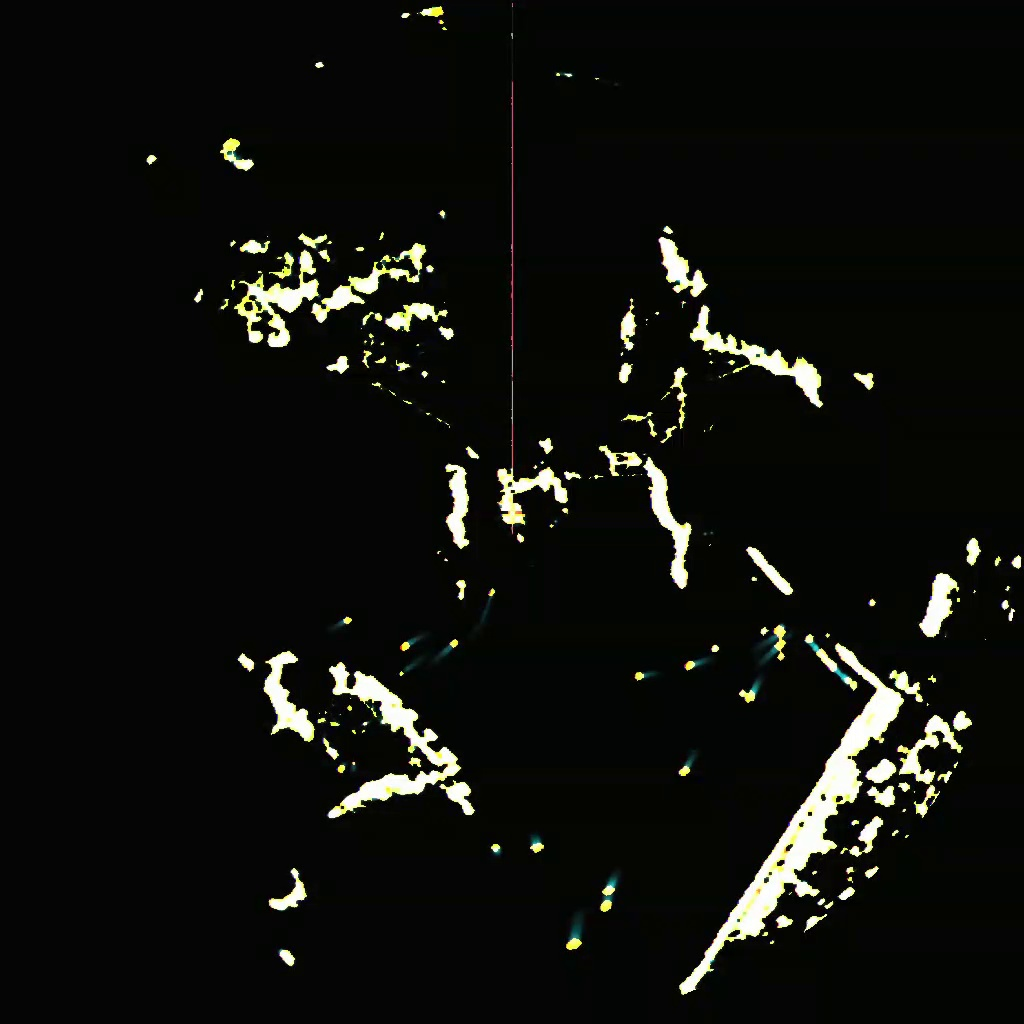B: (564, 916, 584, 951), (433, 637, 460, 662), (480, 589, 498, 624), (680, 751, 698, 780), (633, 667, 663, 684), (598, 885, 613, 915), (762, 626, 784, 646), (530, 832, 546, 859), (745, 679, 763, 703), (397, 636, 423, 652), (770, 641, 786, 664), (683, 658, 713, 670), (331, 615, 352, 632), (601, 874, 616, 896), (398, 664, 418, 679), (804, 633, 819, 653), (839, 673, 854, 687)
